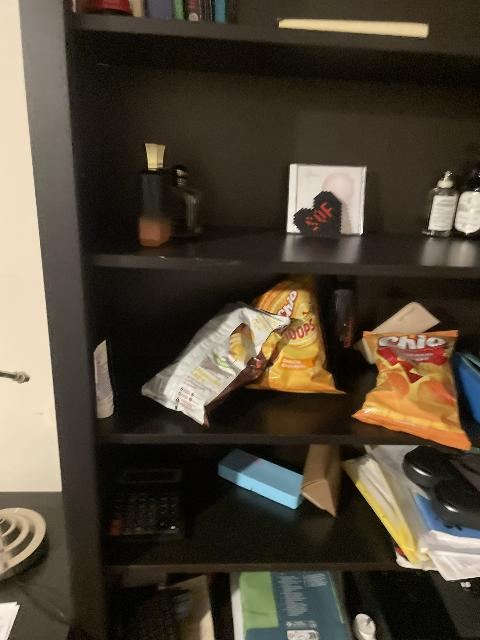Chio Cascaval 125g: (349, 331, 467, 452)
Chio Hula Hoops Cheese 70g: (247, 278, 343, 391)
Lays Beef Grilled Ribs 125g: (141, 301, 293, 426)
